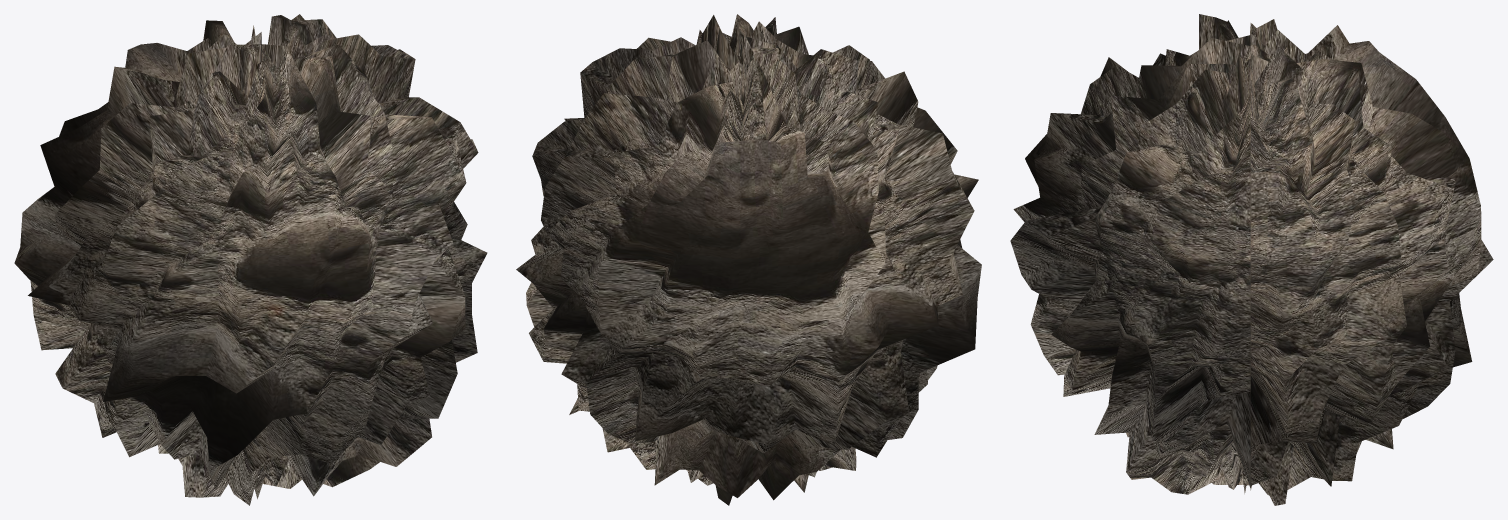
File: asteroid.obj
3 renders of one model, left to right at view 1: azimuth 30°, elevation 25°; view 2: azimuth 150°, elevation 25°; view 3: azimuth 270°, elevation 25°, orthographic.
Bounding box in the file's own units: 2.29 × 2.39 × 2.31.
Materials: 1 (1 with a texture image).
